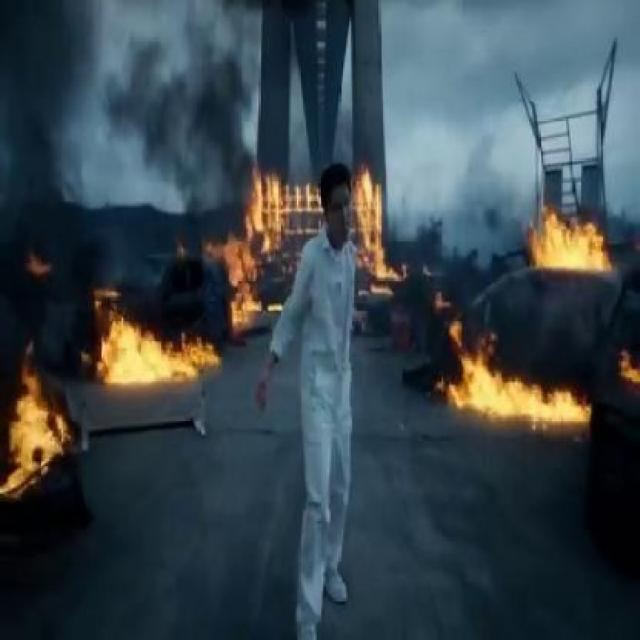fire: (449, 336, 583, 441), (100, 309, 222, 383), (228, 176, 286, 315), (9, 359, 62, 479), (356, 164, 392, 298), (531, 202, 607, 262)
smoke: (104, 1, 253, 228), (0, 1, 96, 292), (430, 120, 524, 282), (264, 53, 388, 169), (392, 183, 430, 266)
